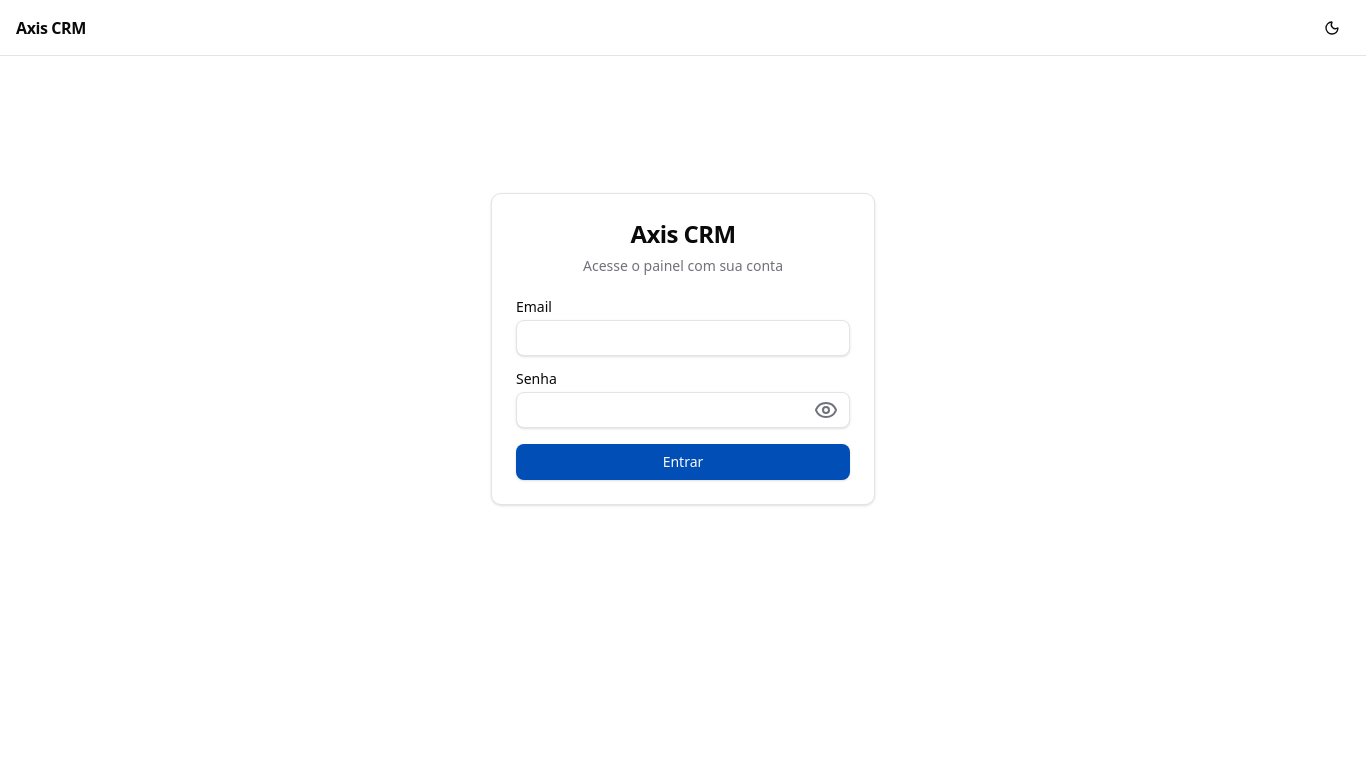
Test case: App shell and routing foundation › theme toggle flips the theme from the top bar
Click the button named "Ativar tema escuro".
click(1332, 28)  # box [1314, 10, 1350, 46]
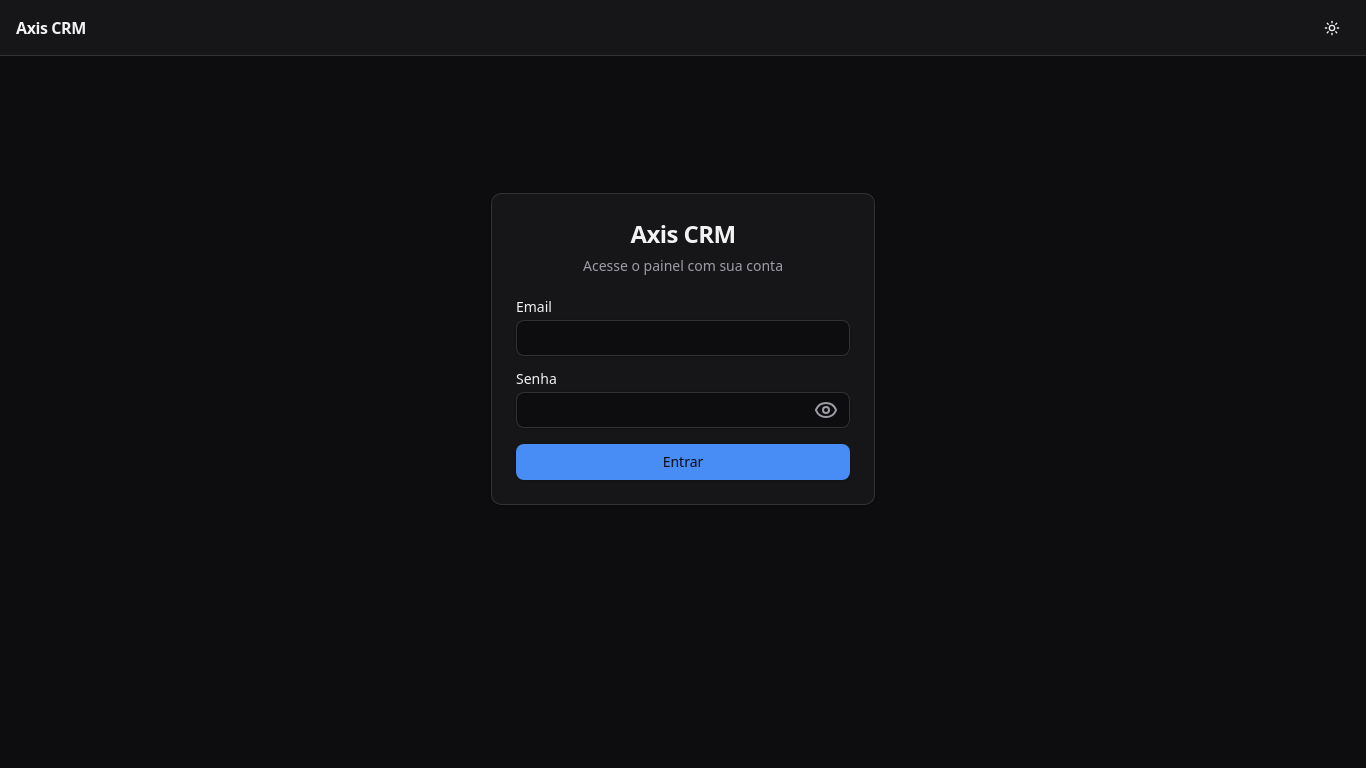
Check: the button named "tema claro" is shown, box [1314, 10, 1350, 46]
